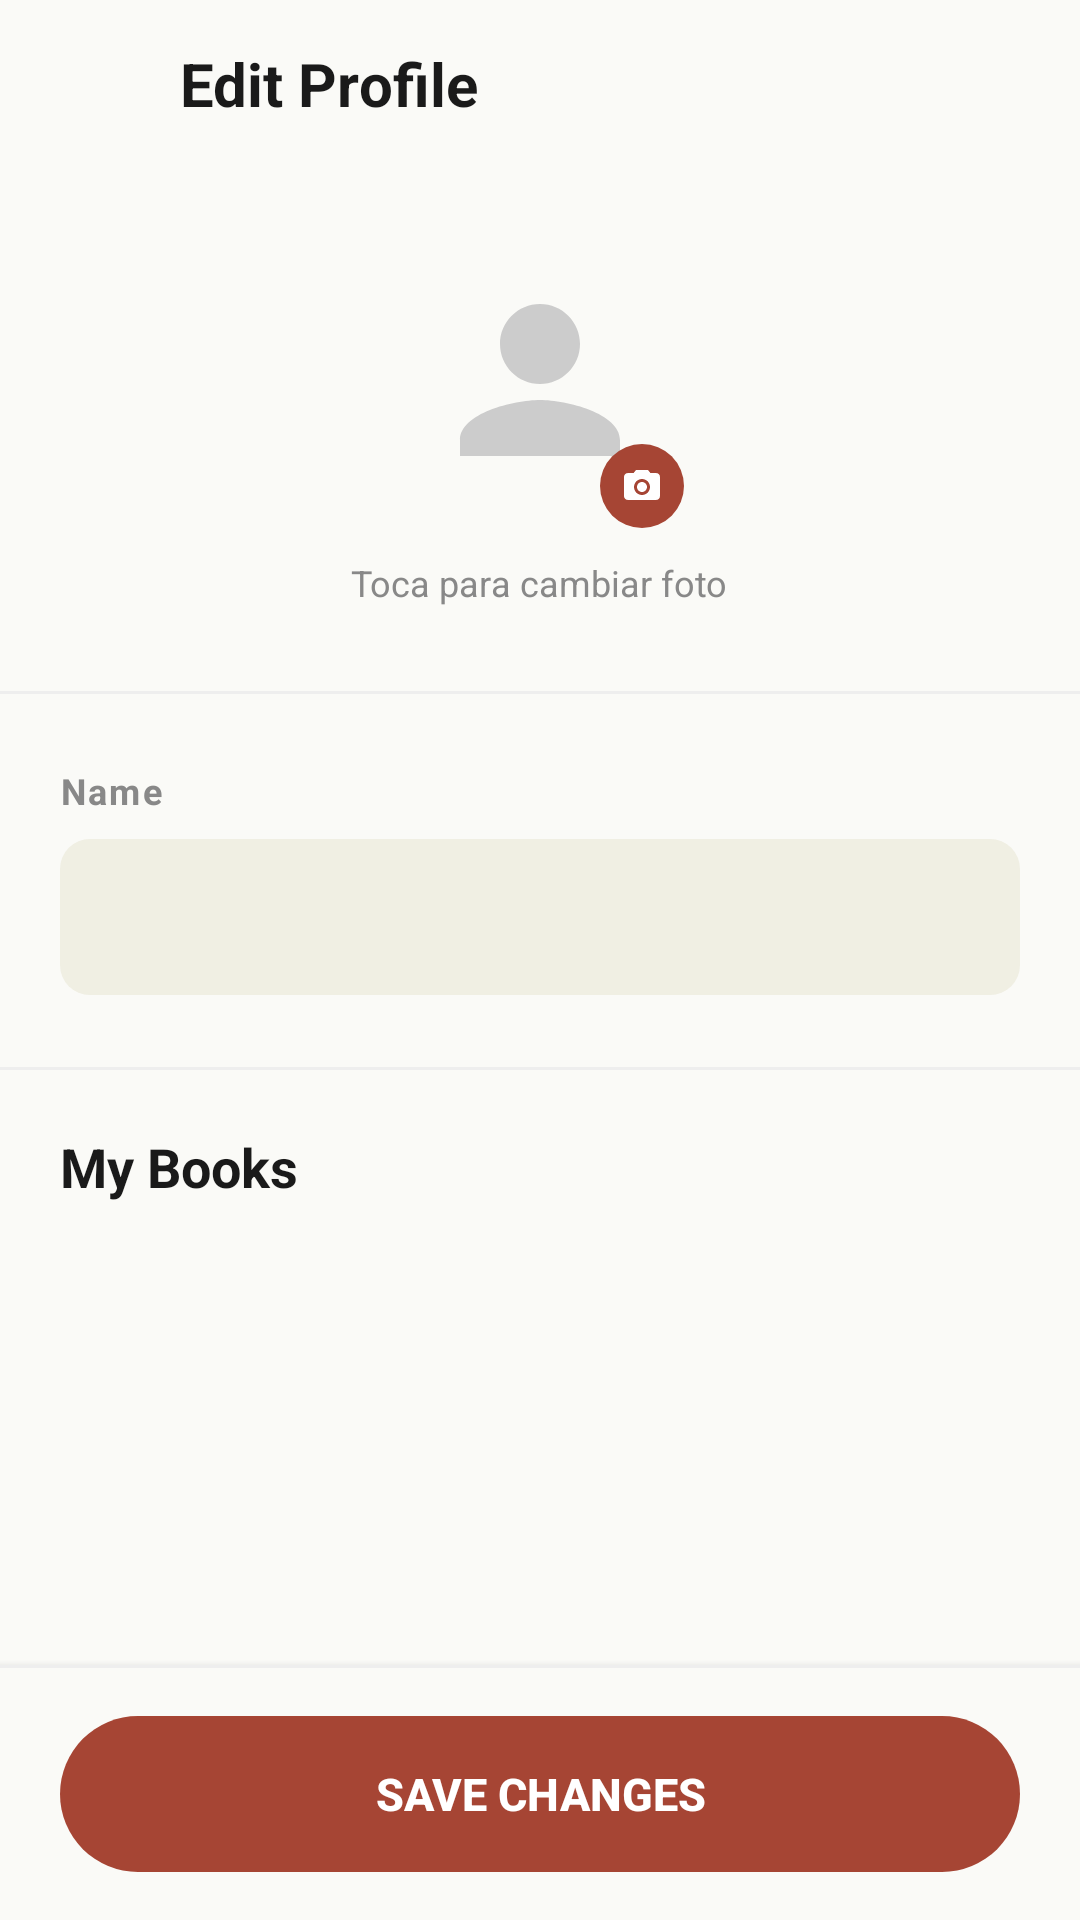

Icon bounding boxes for this 1080w x 1920h phone screenshot, format bbox=[x1, y1, x2, y2]:
camera simple: bbox=[624, 470, 660, 500]
